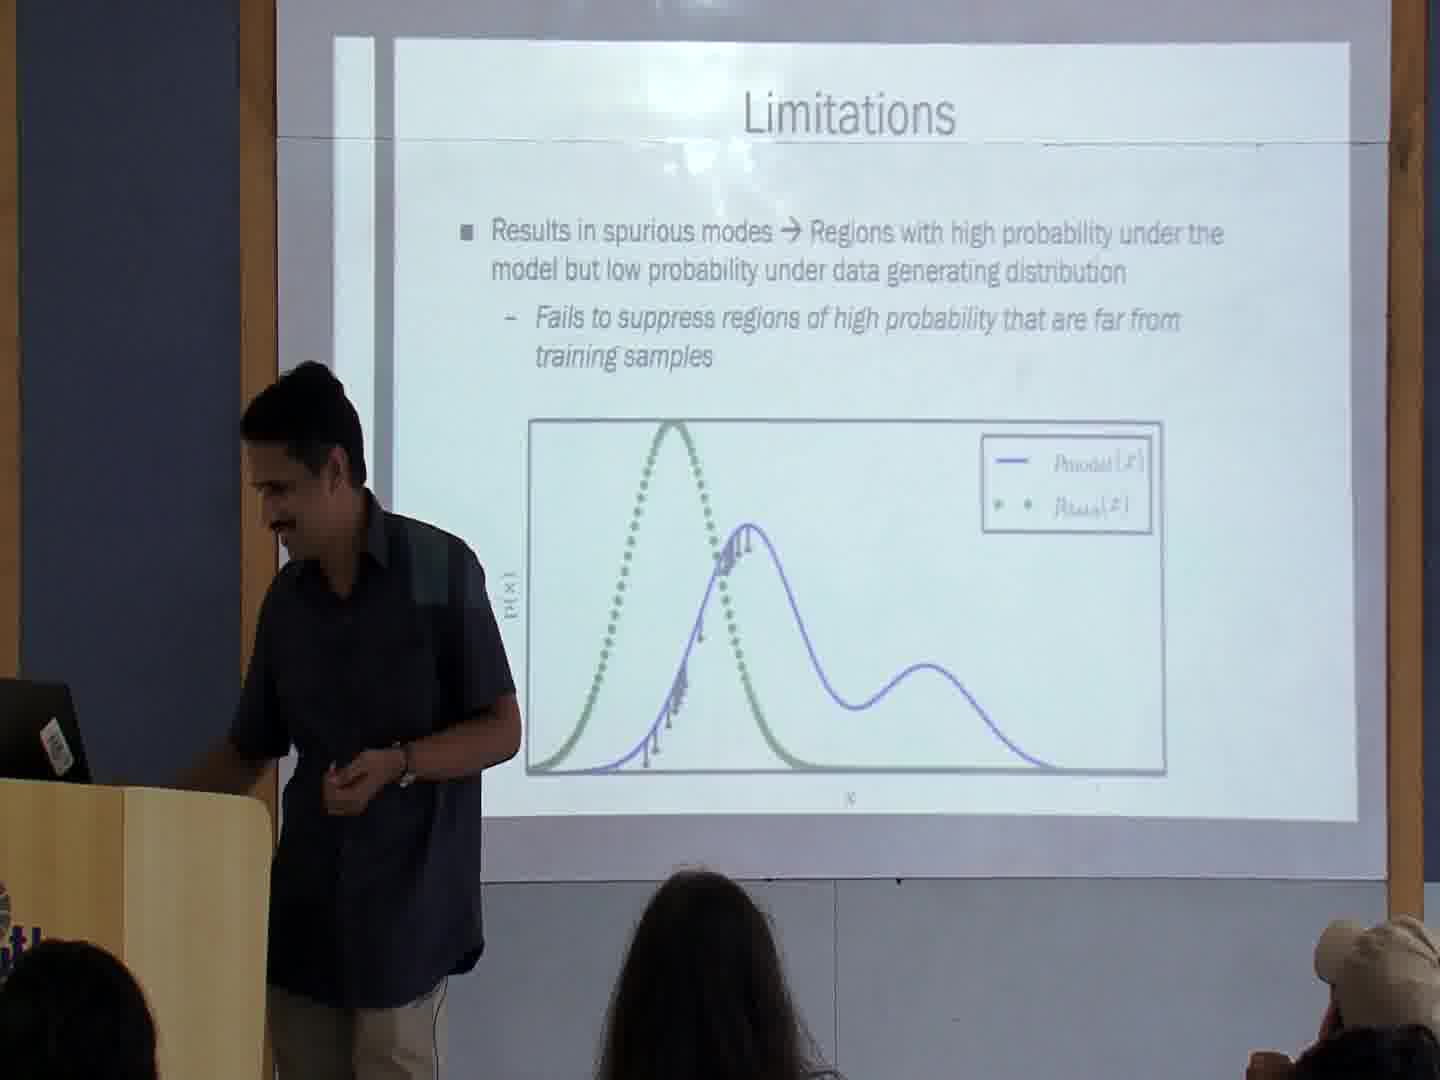fig: (526, 423, 1164, 775)
